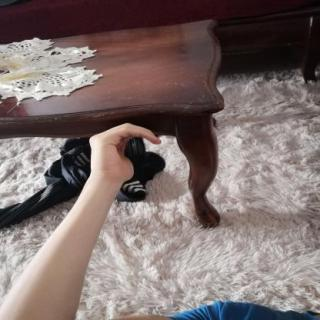HAA: (78, 117, 168, 188)
